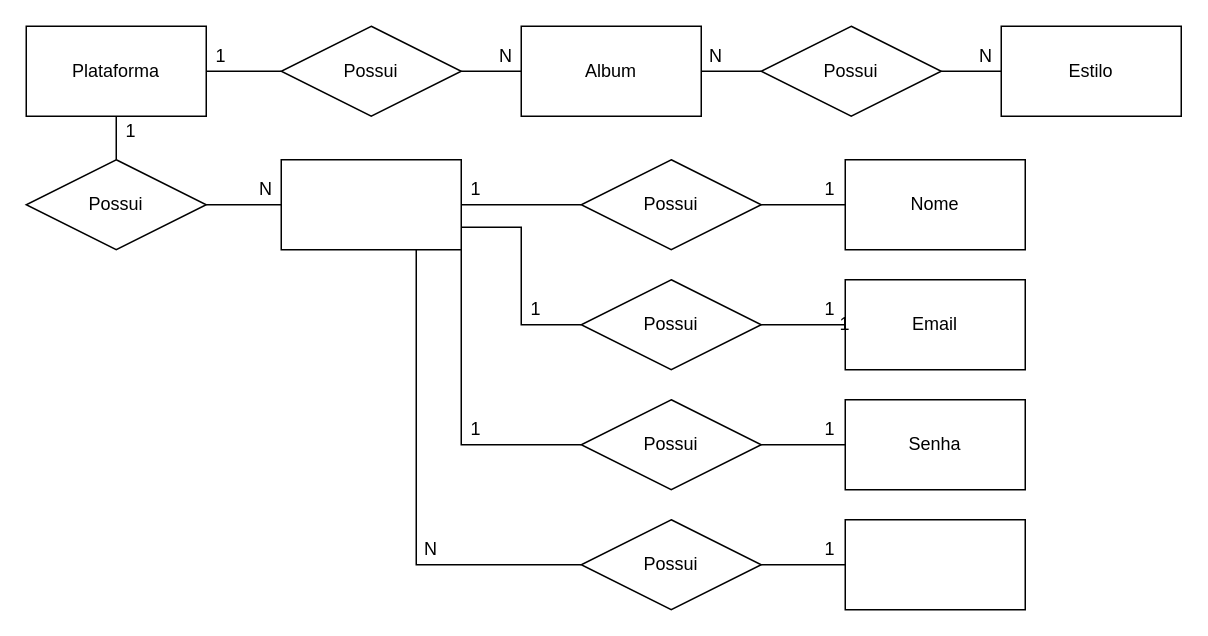
The diagram is 1208 pixels wide and 636 high, and some of its shapes have lost their labels. The centre of each missing label's shape, as x and y in pixels:
Tipo de permissão: the point at 934,564
Usuario: the point at 370,204
